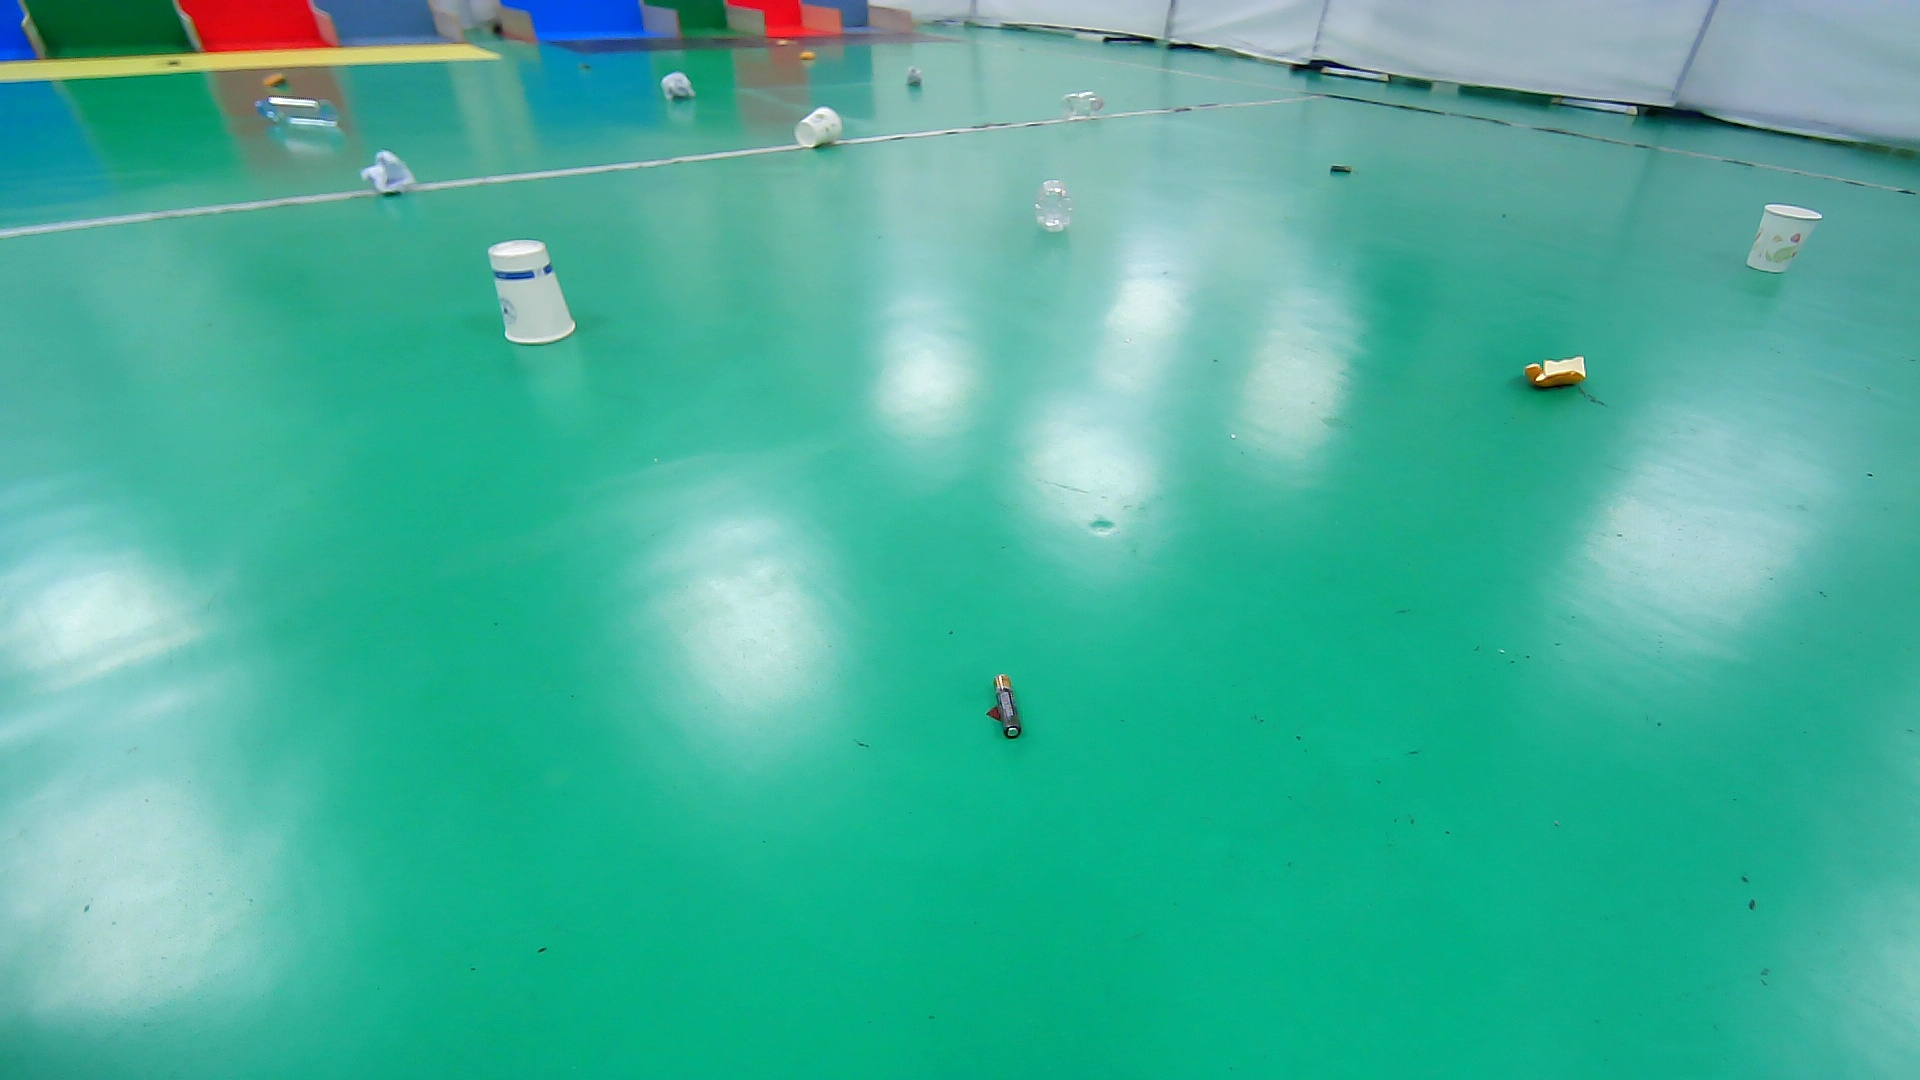battery: (963, 644, 1052, 771), (1315, 153, 1370, 189)
bottle: (251, 95, 345, 135), (1025, 175, 1084, 237), (1058, 84, 1105, 124)
orangepeel: (1511, 338, 1604, 409), (255, 67, 295, 90), (791, 45, 824, 65)
papercup: (483, 233, 585, 349), (1741, 196, 1825, 278), (793, 104, 845, 149)
spitball: (360, 144, 418, 200), (655, 69, 699, 105), (898, 63, 928, 92)
